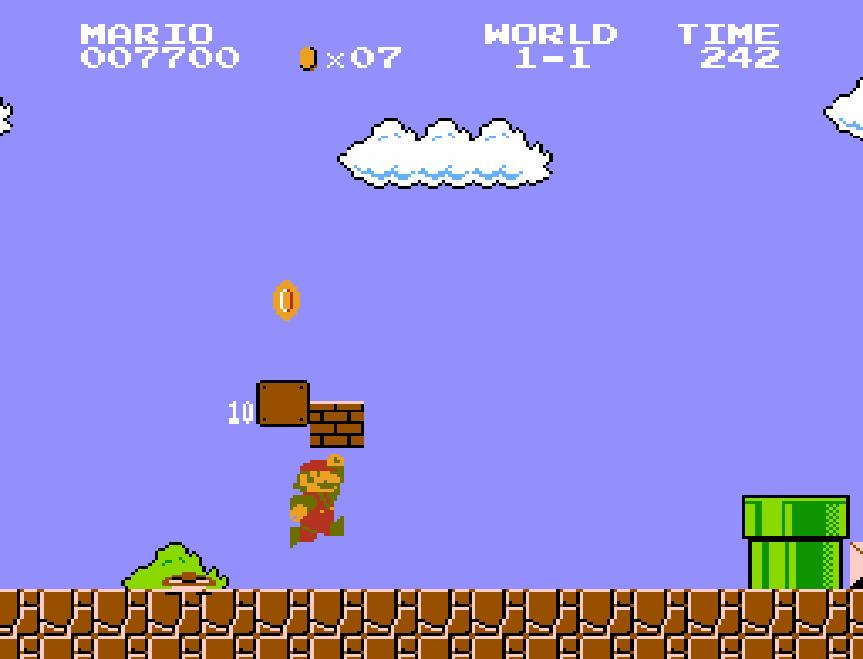big_mario: (288, 452, 346, 550)
